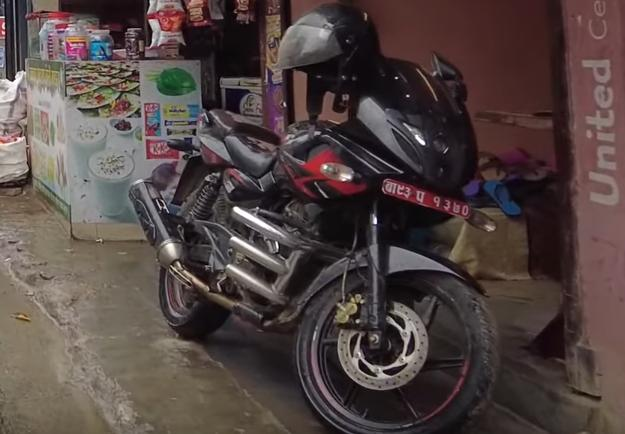bike: (121, 46, 511, 434)
